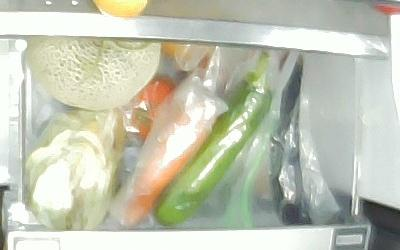cabbage: (22, 105, 123, 230)
carrot_vinyl: (113, 96, 217, 227)
eggplant_vinyl: (267, 51, 314, 225)
melon: (26, 37, 161, 110)
tomato_vinyl: (129, 75, 174, 141)
zucchini_vinyl: (153, 50, 272, 226)
